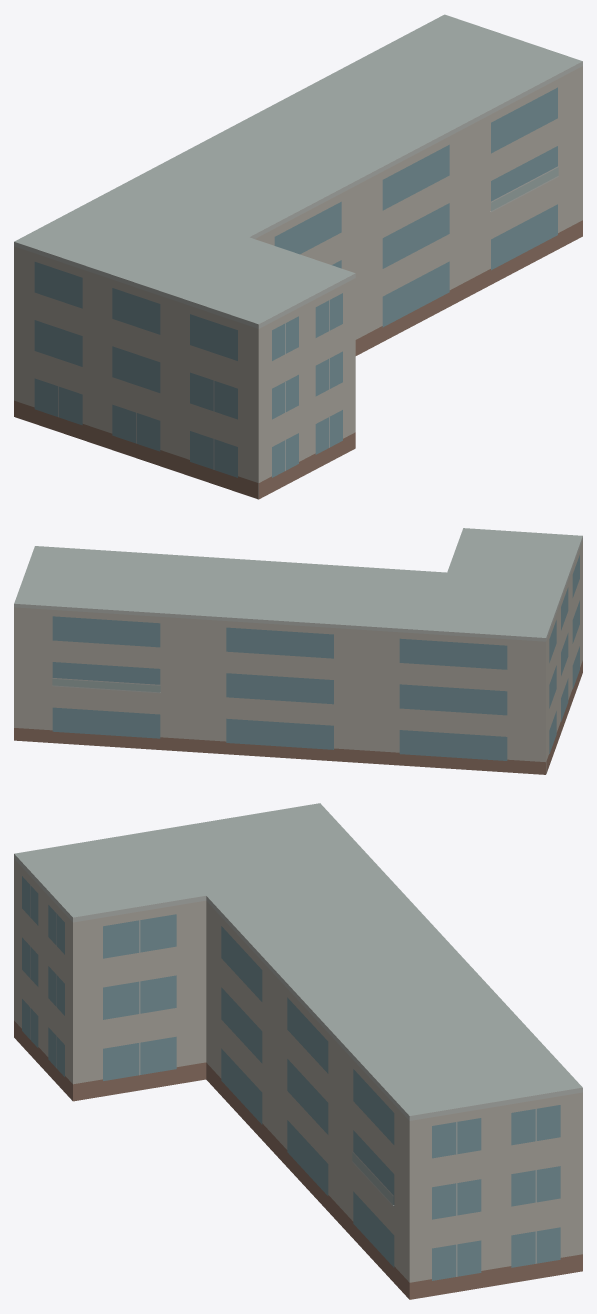
File: residential-291fe5fb-1a38-4c74-b35a-82c880182c4c.glb
3 views of the same model, one above another, from view 1: azimuth 30°, elevation 25°; view 2: azimuth 150°, elevation 25°; view 3: azimuth 270°, elevation 25° (orthographic). The views are drawn at different scales.
Parts seen in each view (by area): view 1: residential-291fe5fb-1a38-4c74-b35a-82c880182c4c.tmp; view 2: residential-291fe5fb-1a38-4c74-b35a-82c880182c4c.tmp; view 3: residential-291fe5fb-1a38-4c74-b35a-82c880182c4c.tmp.
Part boxes in pixels (box(x1,y1,x2,y2)): residential-291fe5fb-1a38-4c74-b35a-82c880182c4c.tmp: box(14, 14, 582, 499); residential-291fe5fb-1a38-4c74-b35a-82c880182c4c.tmp: box(14, 528, 582, 774); residential-291fe5fb-1a38-4c74-b35a-82c880182c4c.tmp: box(14, 803, 582, 1299).
Bounding box in the file's own units: 33.44 × 9.15 × 25.68.
